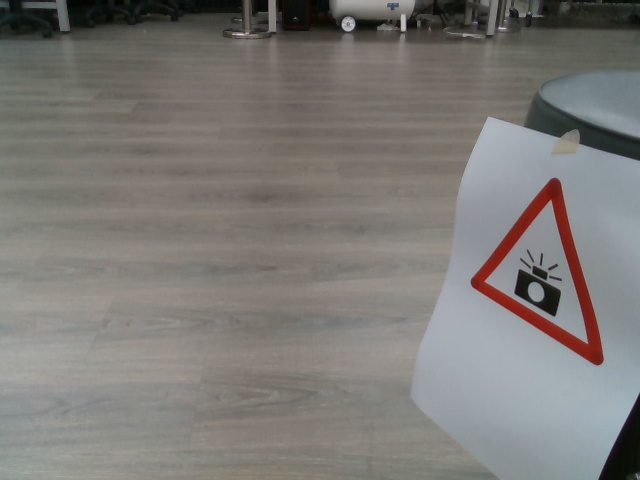camera: (470, 177, 606, 369)
